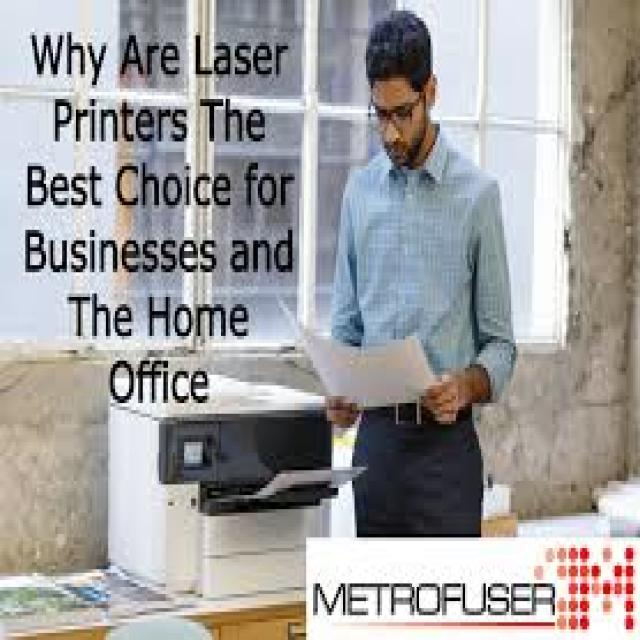printer: (106, 353, 361, 598)
